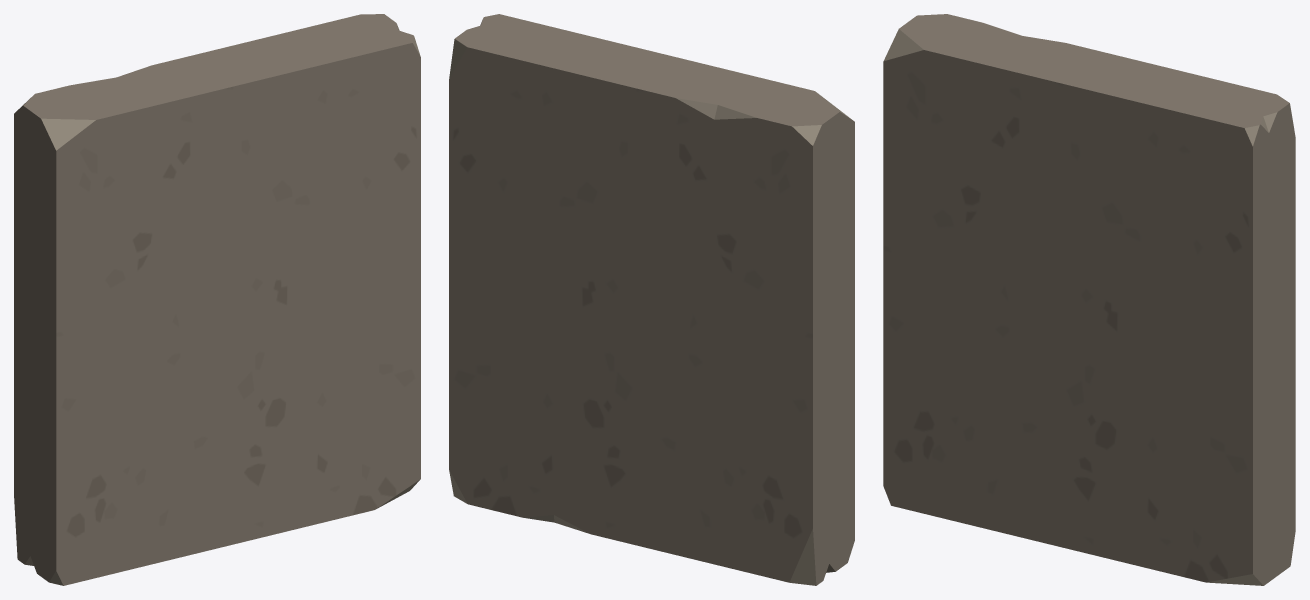
The model's file is SM_Bld_Concrete_Wall_01.fbx.
3 renders of one model, left to right at view 1: azimuth 30°, elevation 25°; view 2: azimuth 150°, elevation 25°; view 3: azimuth 330°, elevation 25°, orthographic.
Visible parts, largest first — view 1: SM_Bld_Concrete_Wall_01; view 2: SM_Bld_Concrete_Wall_01; view 3: SM_Bld_Concrete_Wall_01.
Part boxes in pixels (box(x1,y1,x2,y2)): SM_Bld_Concrete_Wall_01: box(14, 14, 420, 585); SM_Bld_Concrete_Wall_01: box(449, 14, 854, 585); SM_Bld_Concrete_Wall_01: box(883, 14, 1295, 585).
Bounding box in the file's own units: 250 × 300 × 50.
